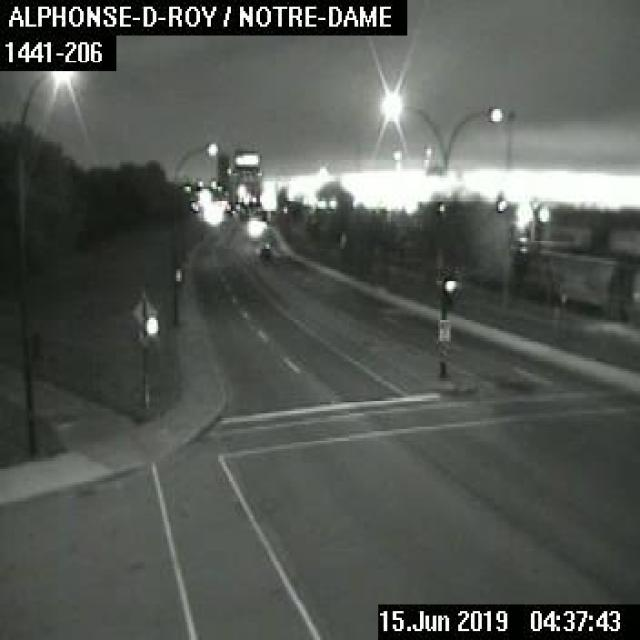vehicle: (258, 246, 269, 258)
